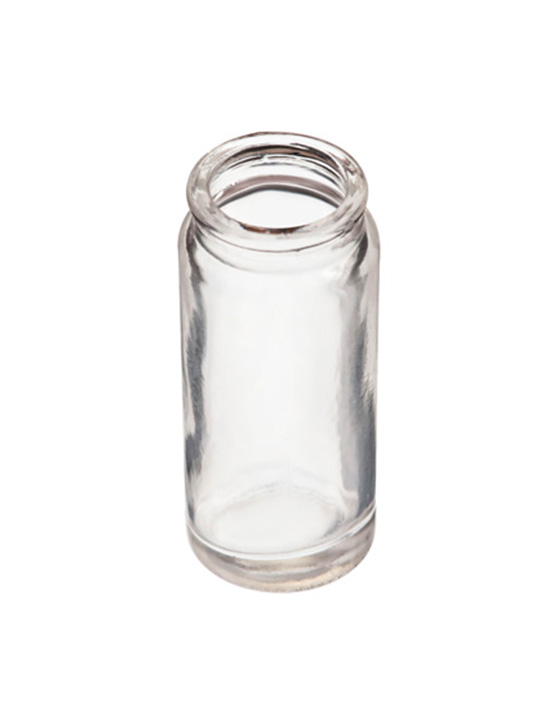glass_label: (174, 128, 382, 597)
